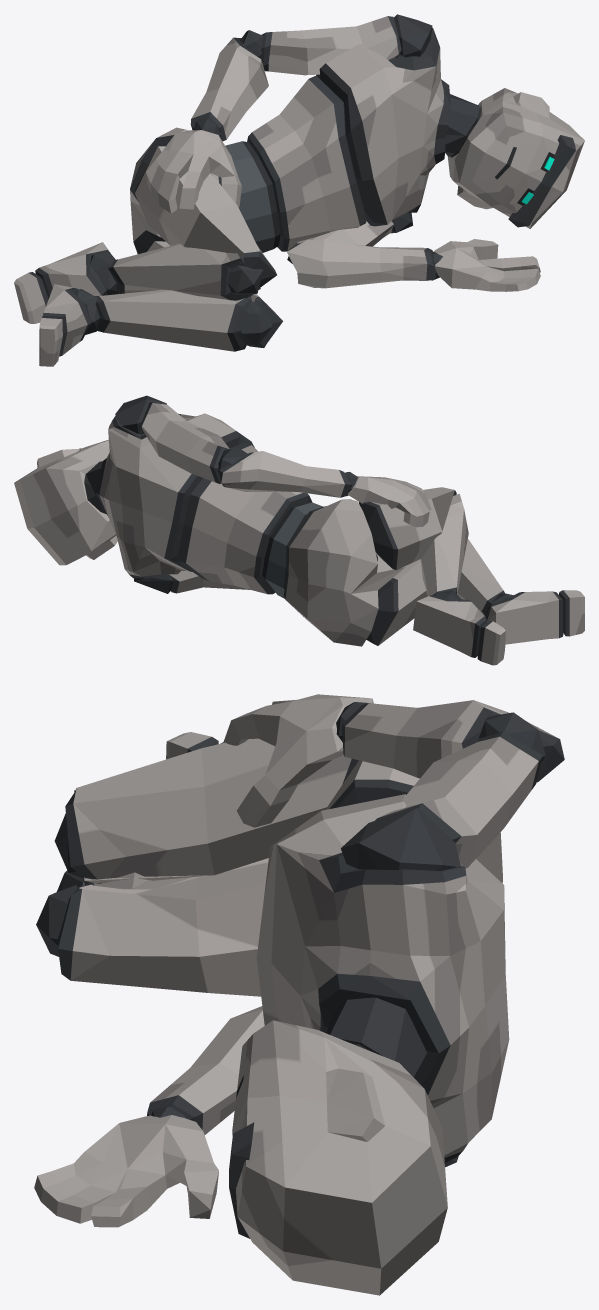
Rendered from SM_Prop_Robot_Posed_02.fbx.
The picture shows the model from 3 angles, top to bottom: view 1: azimuth 30°, elevation 25°; view 2: azimuth 150°, elevation 25°; view 3: azimuth 270°, elevation 25°; orthographic projection. The views are drawn at different scales.
Visible parts, largest first — view 1: SM_Prop_Robot_Posed_02; view 2: SM_Prop_Robot_Posed_02; view 3: SM_Prop_Robot_Posed_02.
Boxes of the visible parts, <box> form: SM_Prop_Robot_Posed_02: <box>14,14,584,366</box>; SM_Prop_Robot_Posed_02: <box>14,395,584,665</box>; SM_Prop_Robot_Posed_02: <box>34,694,564,1295</box>.
Bounding box in the file's own units: 139 × 50.21 × 60.88.
